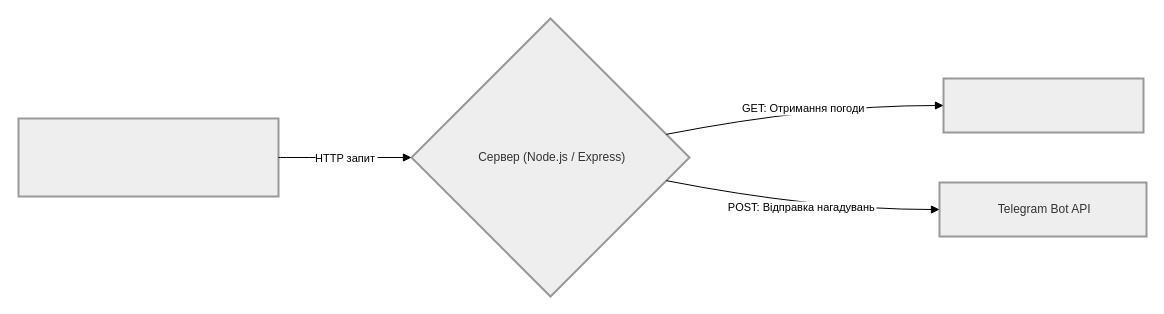
Some shapes in this 1164 by 314 pixel diagram are drawn without their labels. Here are the shapes that lost their labels. From the top down, the centre of each, then its label:
pixel 1043 105: Open-Meteo API
pixel 148 157: Мобільний додаток (Клієнт)
